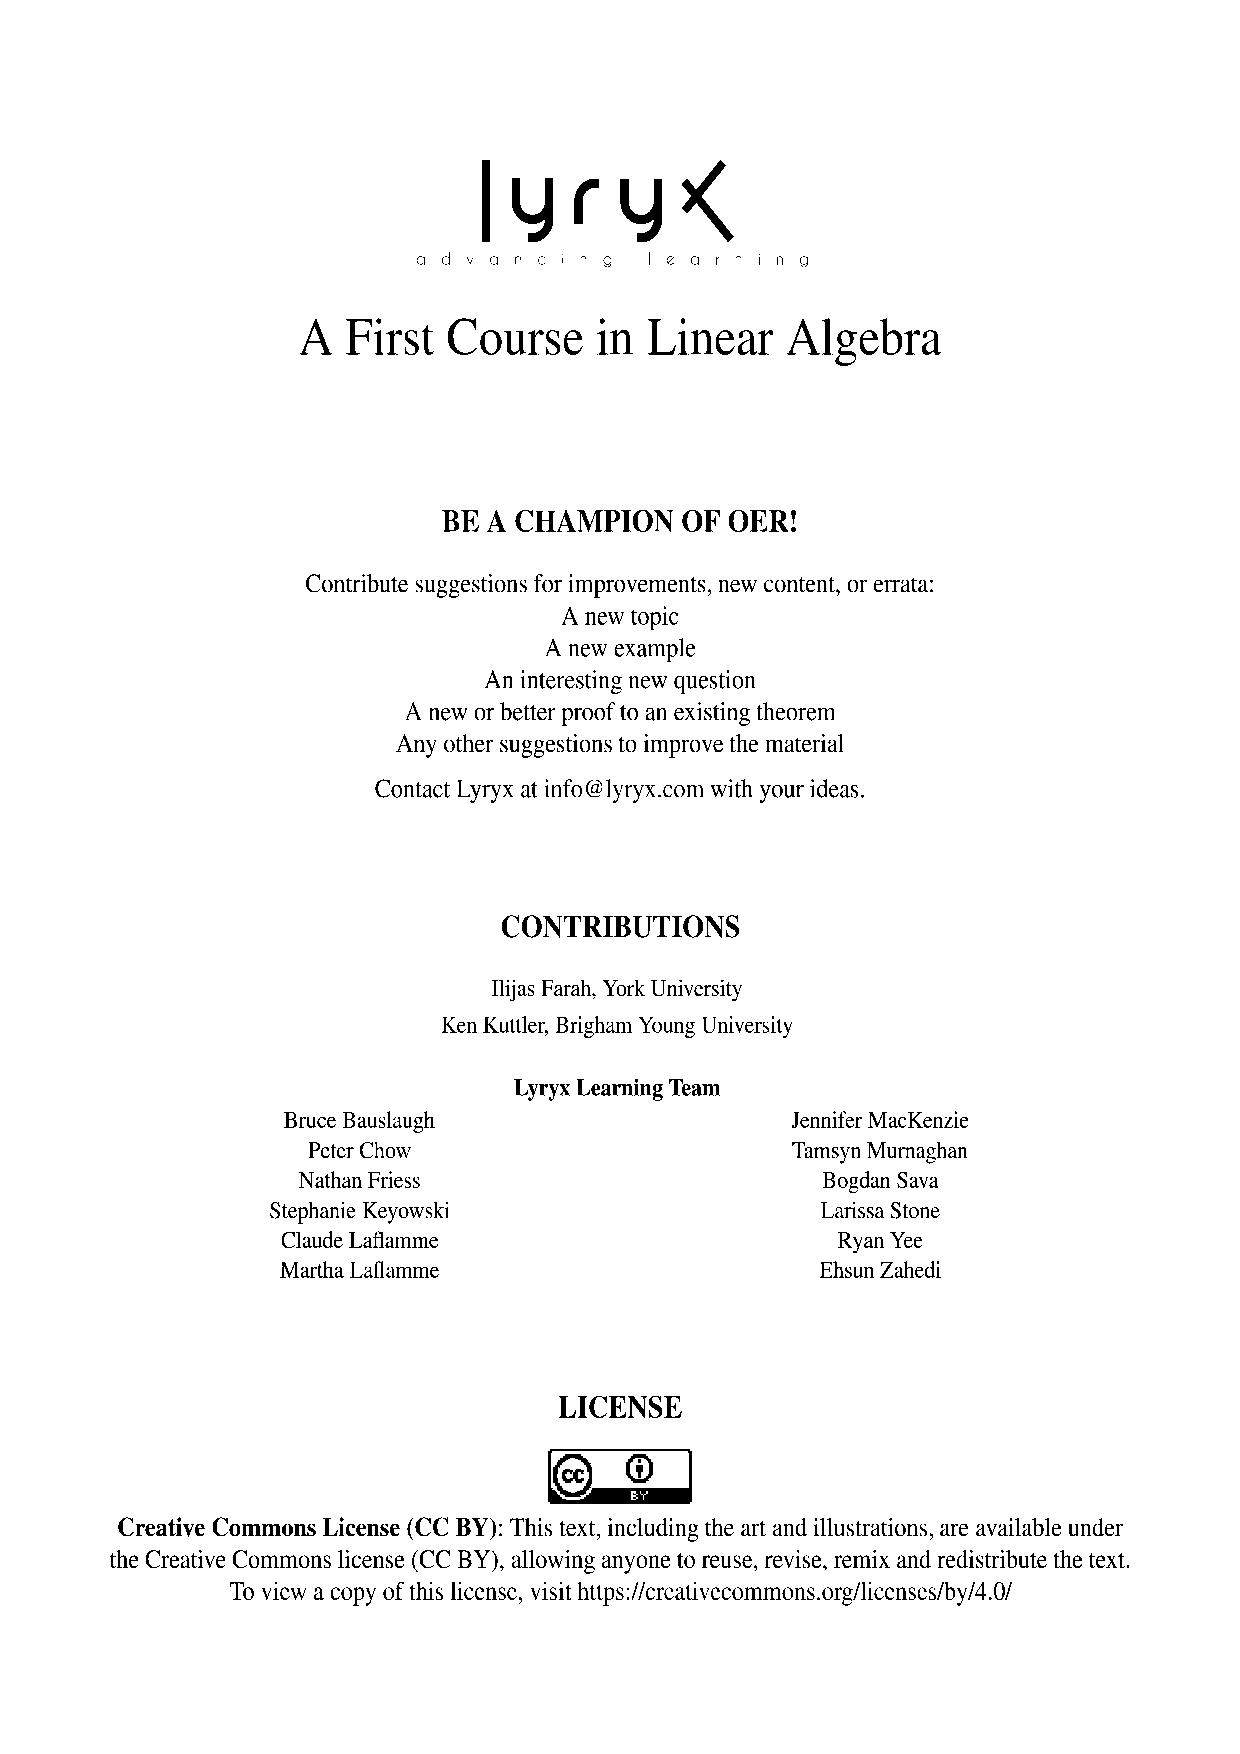title: (297, 311, 939, 369)
